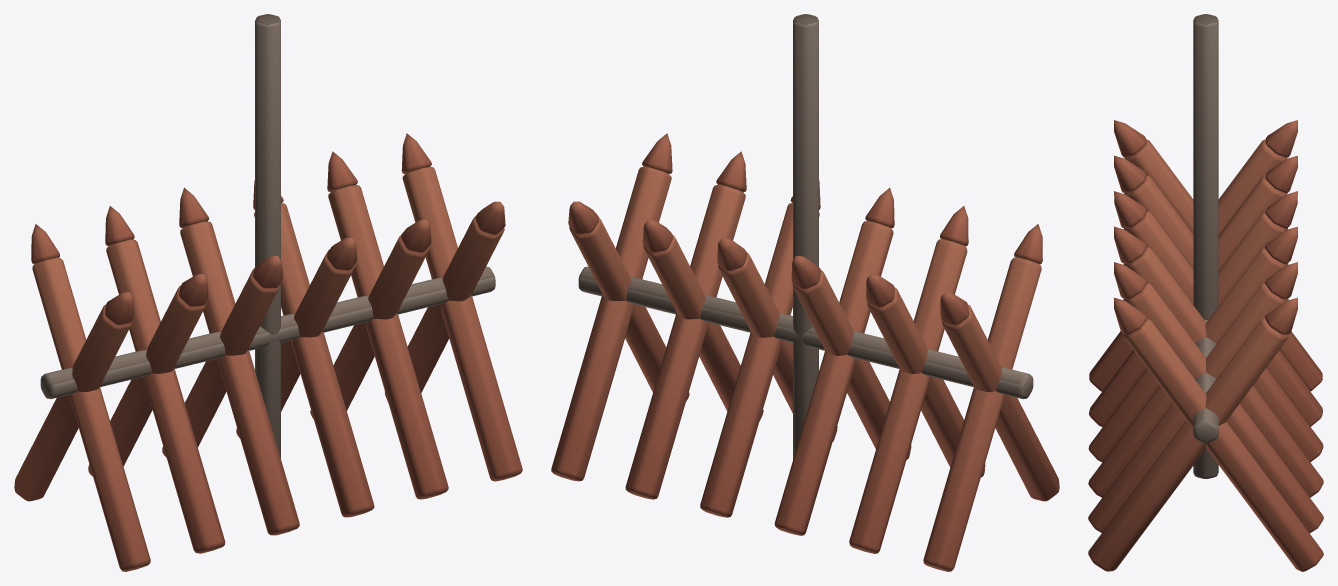
The model's file is barricade.glb.
3 views of the same model, side by side, from view 1: azimuth 30°, elevation 25°; view 2: azimuth 150°, elevation 25°; view 3: azimuth 270°, elevation 25° (orthographic). The views are drawn at different scales.
Visible parts, largest first — view 1: barricade; view 2: barricade; view 3: barricade.
Boxes of the visible parts, box(x1,y1,x2,y2) form: barricade: box(14, 14, 522, 571); barricade: box(551, 14, 1059, 571); barricade: box(1088, 14, 1323, 571).
Size of the model in its own units: 2.4 by 2.43 by 1.12.
1 material, 1 textured.
